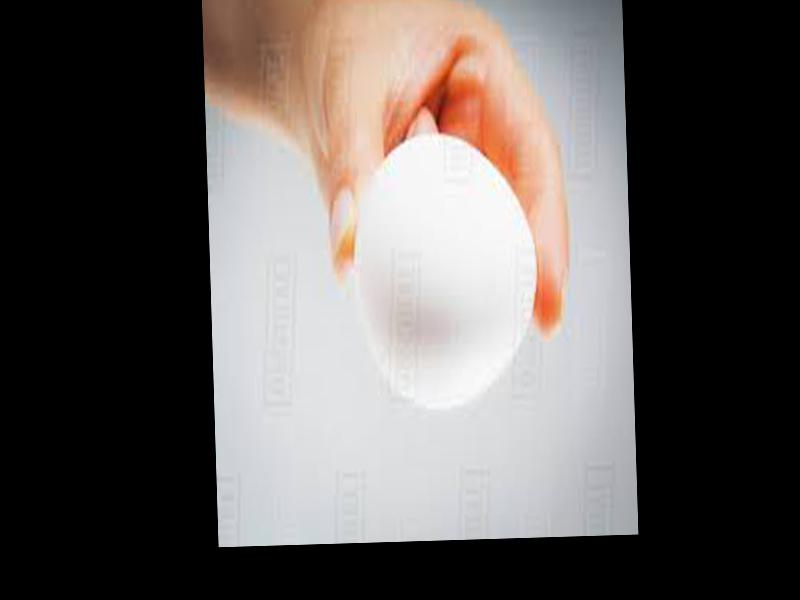Eggs: (354, 133, 540, 410)
